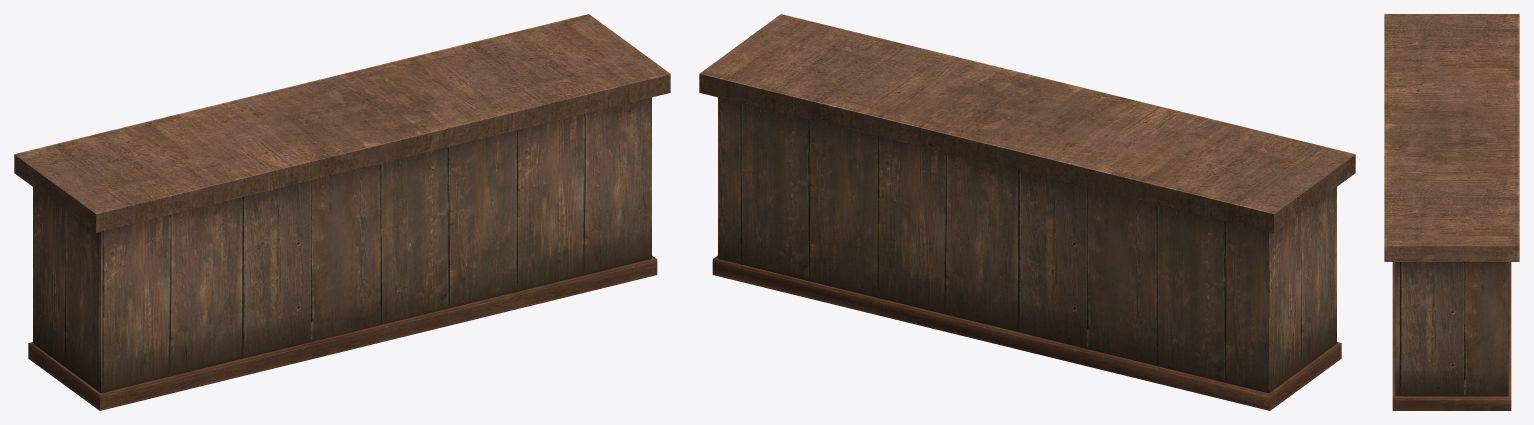
File: Prop_JbBt02.glb
3 renders of one model, left to right at view 1: azimuth 30°, elevation 25°; view 2: azimuth 150°, elevation 25°; view 3: azimuth 270°, elevation 25°, orthographic. The views are drawn at different scales.
Parts seen in each view (by area): view 1: xiutz_jb_bt_02; view 2: xiutz_jb_bt_02; view 3: xiutz_jb_bt_02.
Part boxes in pixels (box(x1,y1,x2,y2)): xiutz_jb_bt_02: box(14, 14, 670, 410); xiutz_jb_bt_02: box(699, 14, 1355, 410); xiutz_jb_bt_02: box(1384, 14, 1519, 410).
Bounding box in the file's own units: 4.94 × 1.67 × 1.22.
Materials: 1 (1 with a texture image).
